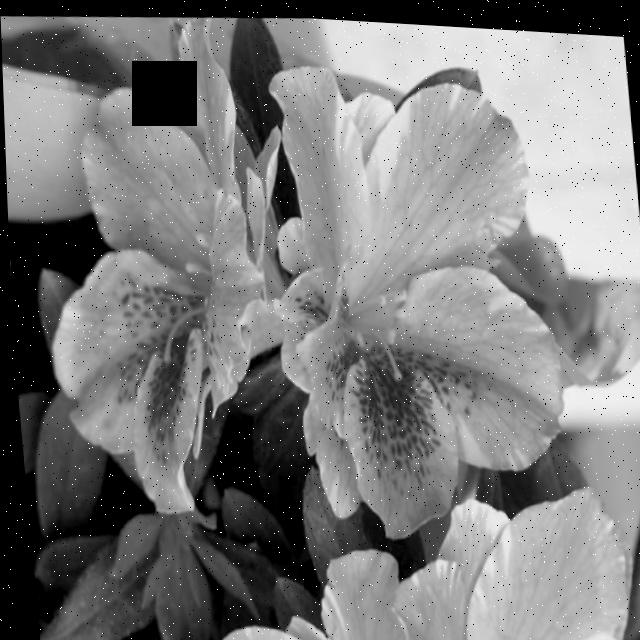azalea: (217, 29, 590, 570), (19, 33, 305, 510)
